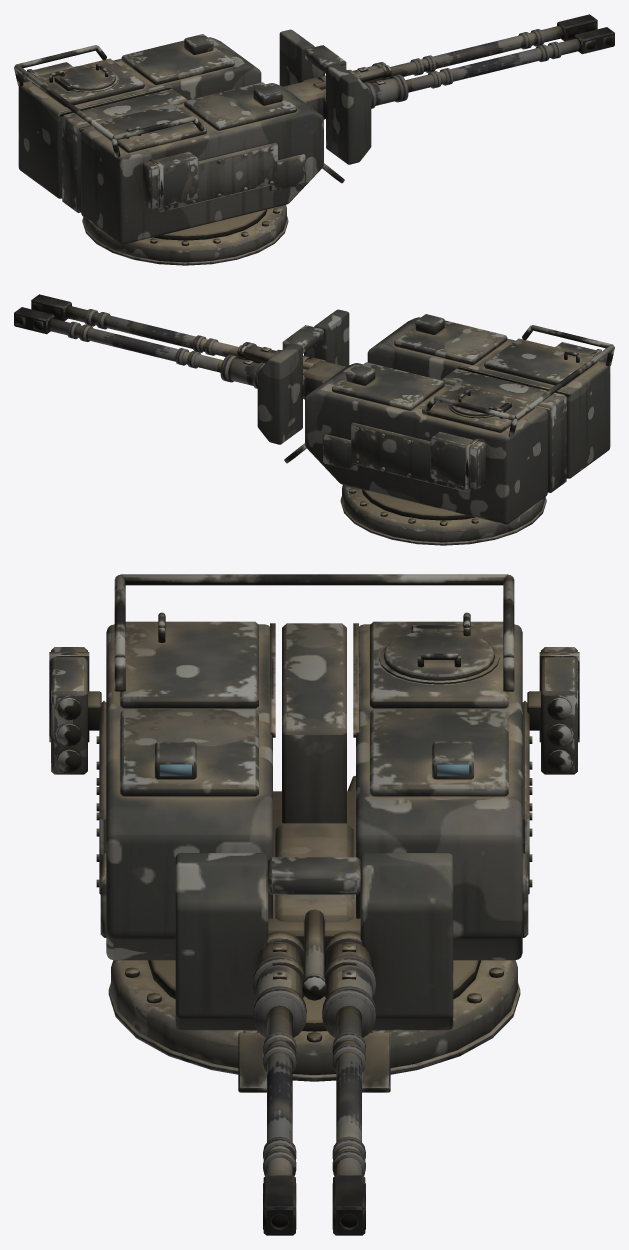
Rendered from turret_kit_t2_ash.glb.
The picture shows the model from 3 angles, top to bottom: view 1: azimuth 30°, elevation 25°; view 2: azimuth 150°, elevation 25°; view 3: azimuth 270°, elevation 25°; orthographic projection. The views are drawn at different scales.
Parts seen in each view (by area): view 1: turret_twin_t2, guns, pods; view 2: turret_twin_t2, guns, pods; view 3: turret_twin_t2, guns, pods.
Part boxes in pixels (x1,y1,x2,y2): turret_twin_t2: [14, 29, 371, 265]; guns: [283, 14, 614, 119]; pods: [21, 62, 198, 209]; turret_twin_t2: [257, 309, 614, 545]; guns: [14, 294, 345, 399]; pods: [430, 342, 607, 489]; turret_twin_t2: [96, 574, 532, 1092]; guns: [253, 823, 375, 1235]; pods: [49, 647, 579, 774].
Size of the model in its own units: 2.7 by 0.722 by 1.15.
4 materials, 3 textured.
